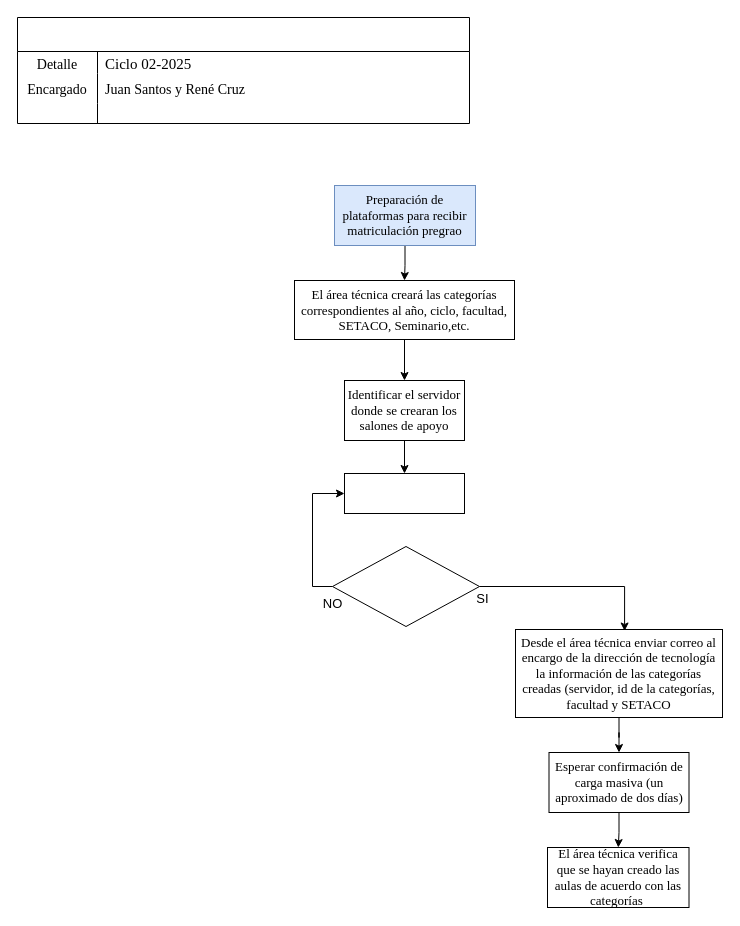
This 740x926 diagram has some shape labels left out. Here are the shapes that lost their labels. From the top down, the box of each, then its label:
(16, 16, 470, 124): Preparación de plataformas para recibir matriculación pregrado Moodle
(344, 472, 464, 514): Verificar información
(332, 546, 480, 626): ¿Información correcta?
